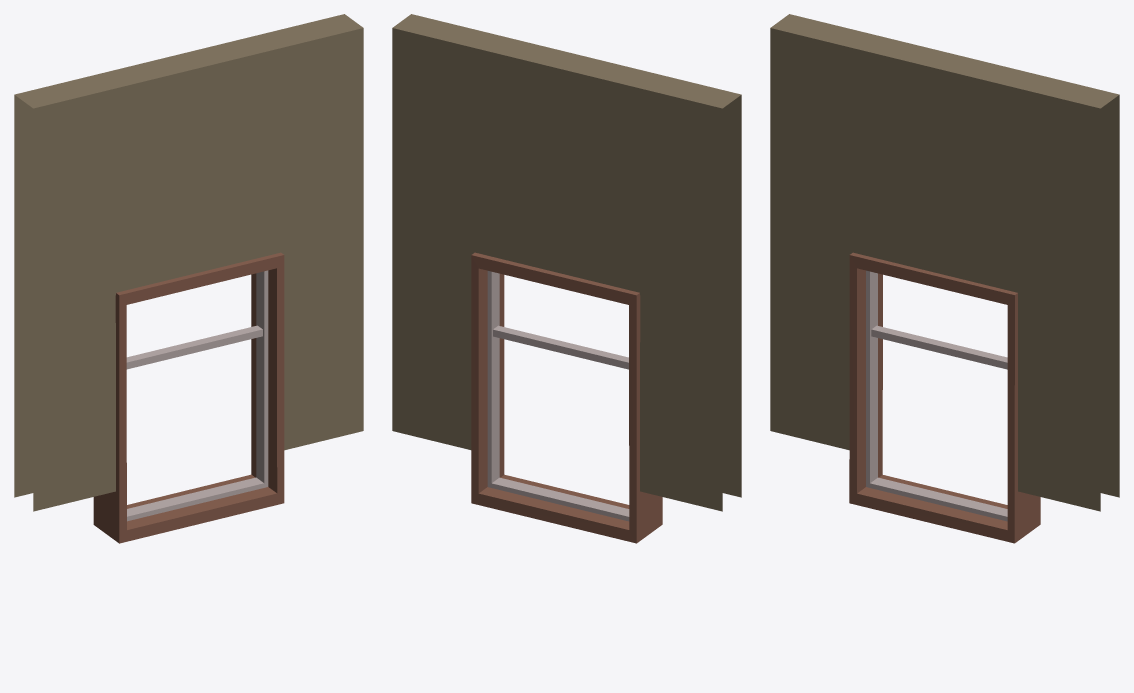
File: SM_Wall_Window_A_200.fbx
The picture shows the model from 3 angles, left to right: view 1: azimuth 30°, elevation 25°; view 2: azimuth 150°, elevation 25°; view 3: azimuth 330°, elevation 25°; orthographic projection.
Parts seen in each view (by area): view 1: SM_Wall_Window_A_200; view 2: SM_Wall_Window_A_200; view 3: SM_Wall_Window_A_200.
Part boxes in pixels (x1,y1,x2,y2): SM_Wall_Window_A_200: (14, 14, 363, 543); SM_Wall_Window_A_200: (392, 14, 741, 543); SM_Wall_Window_A_200: (770, 14, 1119, 543).
Size of the model in its own units: 200 by 330 by 27.27.
Materials: 4 (4 with a texture image).
